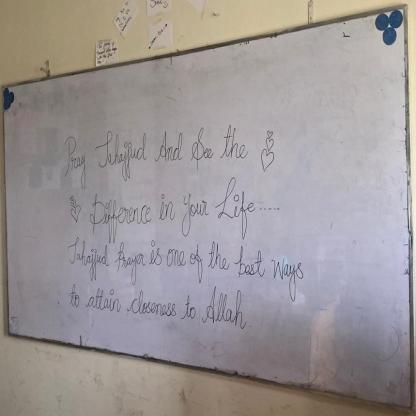Handwritten text: (53, 107, 258, 188), (61, 231, 312, 288), (62, 274, 250, 334), (85, 174, 256, 236)
Whiteboard: (1, 7, 413, 416)
